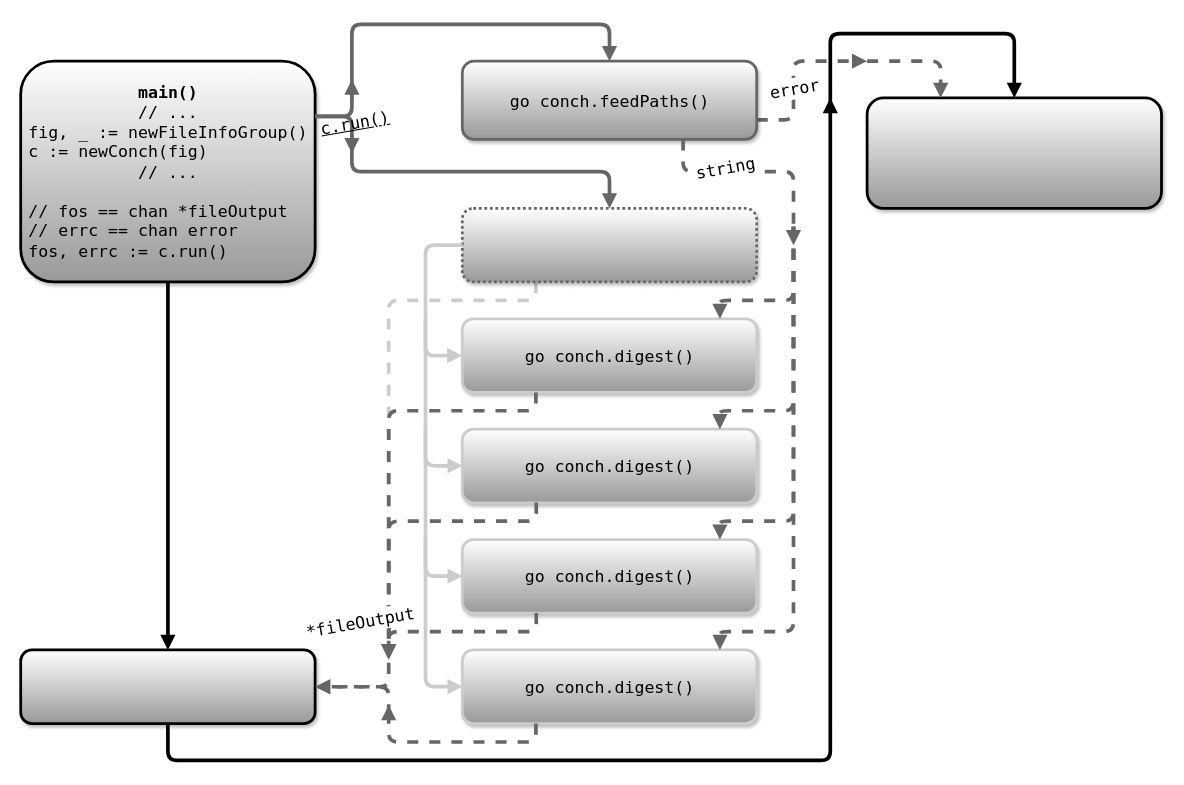
This 1184x785 diagram has some shape labels left out. Here are the shapes that lost their labels. From the top down, the centre of each, then its label:
(1015,154): main() select { case err := <-errc: default: }
(610,246): go conch.fanout()
(168,687): main() for fo := range fos
